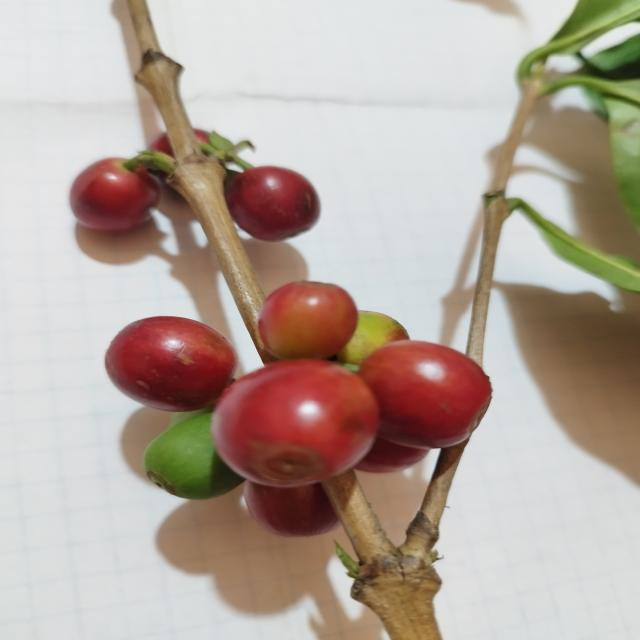Sano: (212, 359, 379, 488), (357, 340, 492, 450), (105, 316, 238, 412), (144, 409, 244, 500), (258, 281, 358, 360), (225, 166, 320, 242), (69, 158, 160, 232), (329, 311, 409, 372)
